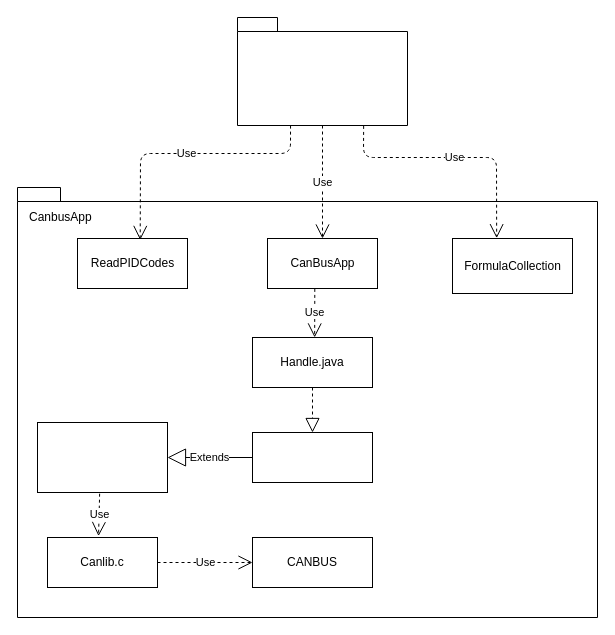
Image size: 615x635. Some labels were removed from this diagram. Here are the shapes that lost their labels. From the top down, the box of each, then its label:
(236, 16, 408, 126): Canbus provider
(36, 422, 168, 492): Java Native Access
(252, 432, 372, 482): Canlib.java
